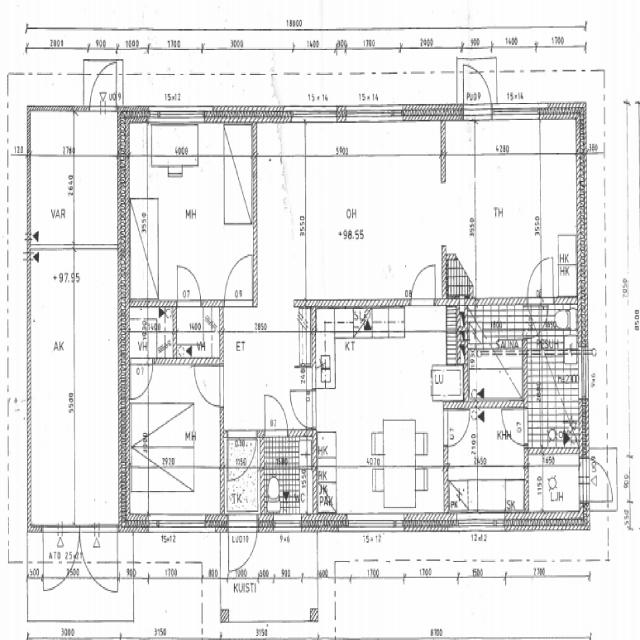door: (293, 132, 436, 306), (477, 402, 528, 463), (460, 59, 496, 119), (226, 514, 259, 575), (222, 249, 256, 307), (86, 60, 118, 113), (585, 453, 615, 507), (407, 258, 438, 310), (192, 361, 224, 408), (173, 259, 204, 306), (259, 389, 290, 435), (444, 406, 472, 452), (524, 255, 552, 299), (289, 386, 316, 430), (502, 406, 528, 448), (128, 358, 152, 401)
window: (343, 510, 406, 536), (343, 101, 401, 126), (149, 512, 208, 533), (288, 102, 338, 125), (147, 104, 201, 125), (460, 510, 507, 534), (490, 100, 541, 122), (436, 179, 450, 254), (578, 348, 592, 404), (270, 514, 304, 535)
zone: (291, 131, 442, 304), (314, 328, 438, 514), (132, 121, 255, 305), (450, 116, 545, 302), (127, 368, 223, 523), (28, 107, 95, 249), (68, 118, 122, 249), (524, 340, 584, 452), (261, 433, 315, 520), (525, 455, 586, 517), (475, 402, 526, 470), (467, 349, 524, 404), (174, 304, 222, 364), (552, 232, 579, 300), (224, 431, 260, 472), (127, 356, 151, 402)
